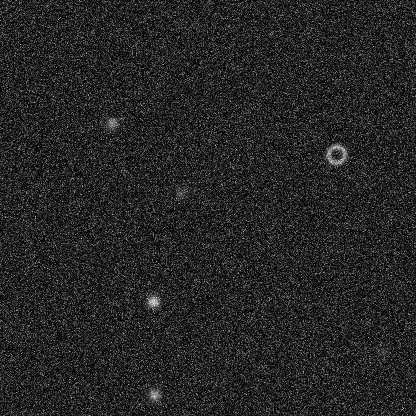Ring: (324, 142, 348, 166)
Spot: (172, 185, 188, 201), (145, 293, 161, 309), (374, 344, 390, 360), (103, 115, 119, 131), (146, 386, 162, 402)
